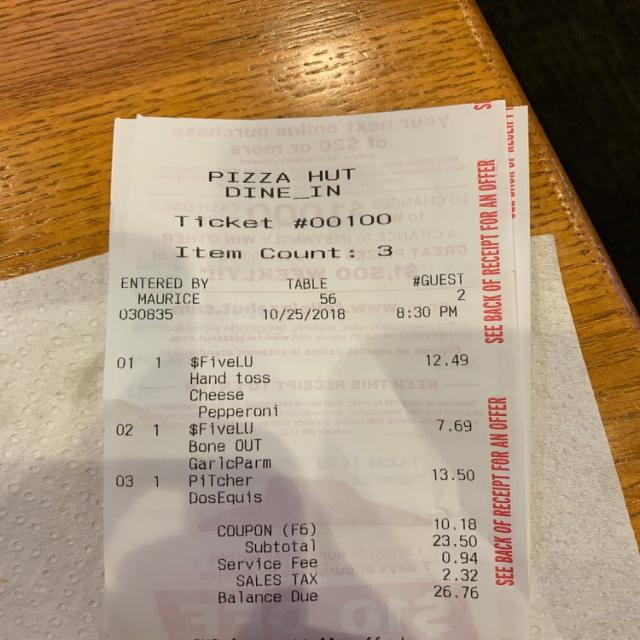TotalPrice: (186, 582, 497, 614)
